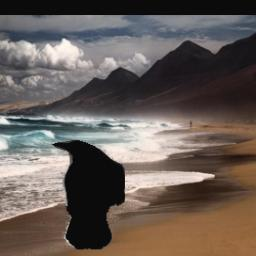Crow: (51, 140, 126, 250)
